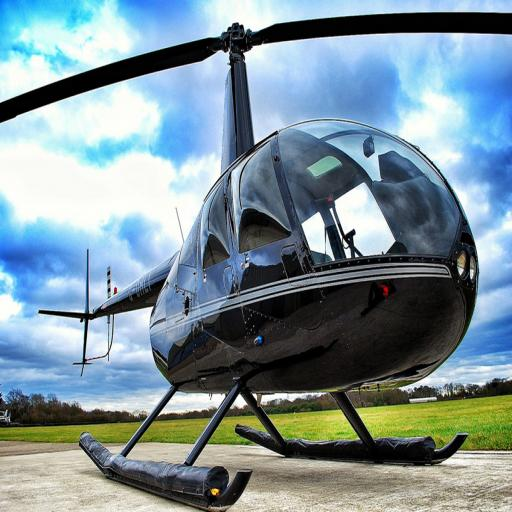helicopter: (5, 13, 512, 512)
